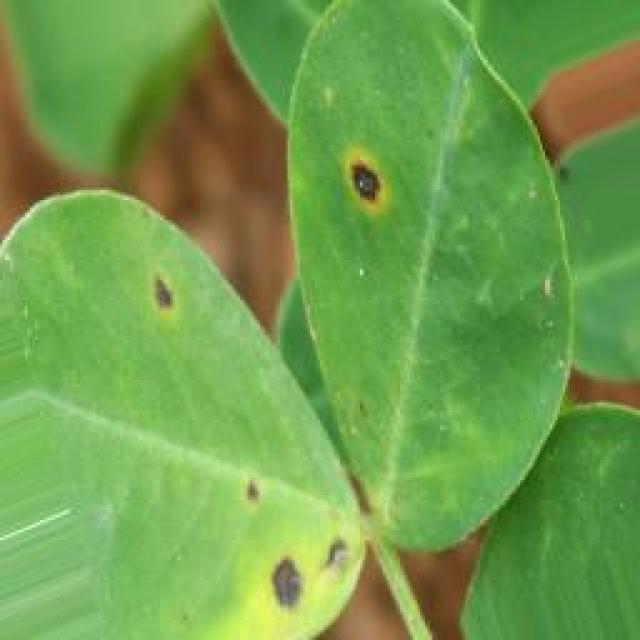Sigatoka: (228, 530, 360, 632), (317, 108, 381, 225), (125, 263, 192, 366), (220, 452, 286, 534)
